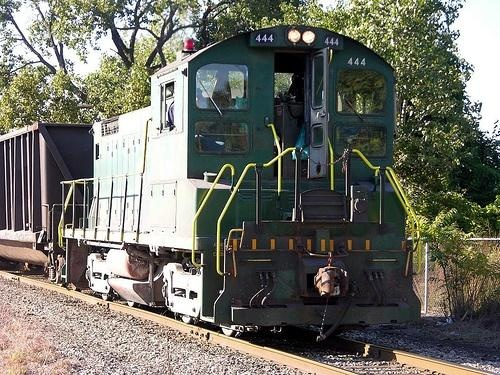train: (1, 25, 425, 330)
